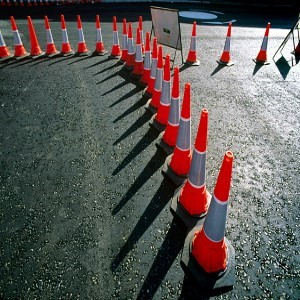traffic cone: (181, 151, 236, 291), (171, 108, 218, 230), (162, 82, 204, 185), (155, 65, 188, 154), (149, 54, 178, 130), (145, 45, 167, 114), (142, 38, 162, 97), (24, 15, 45, 59), (55, 14, 76, 57), (10, 16, 30, 61), (252, 22, 272, 66), (138, 32, 154, 86), (40, 15, 60, 58), (89, 15, 109, 56), (72, 16, 90, 57), (123, 22, 138, 71), (218, 23, 234, 67), (186, 19, 200, 67), (131, 27, 144, 78), (108, 16, 123, 59), (119, 17, 132, 63), (1, 25, 13, 62)
